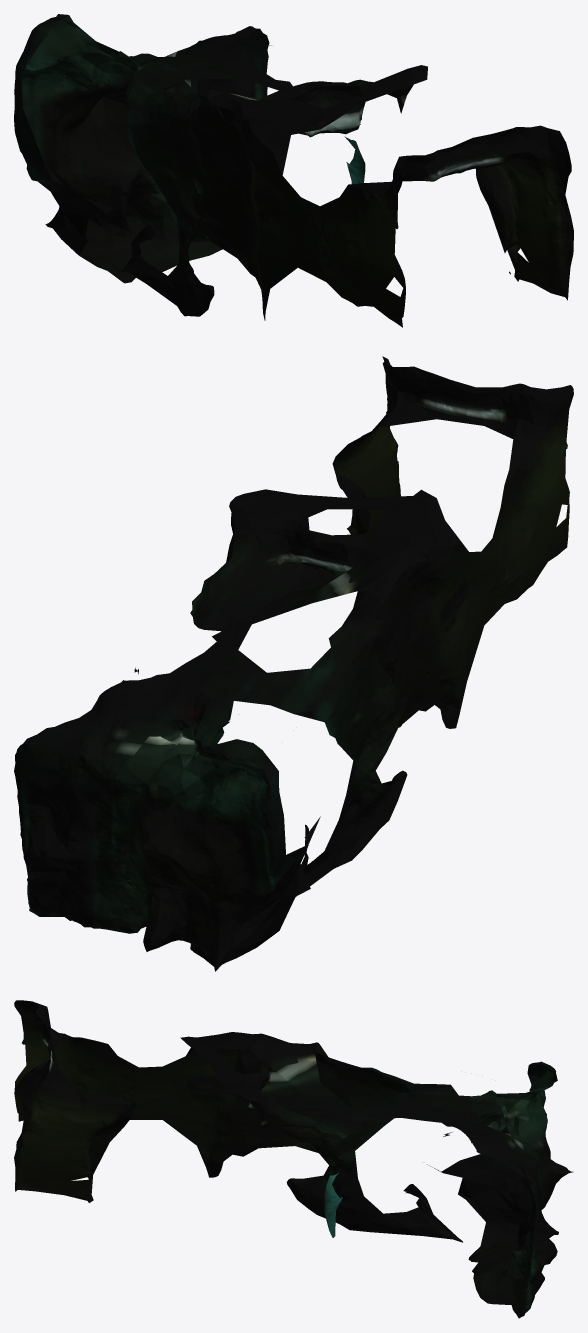
The model's file is texturedMesh.glb.
3 views of the same model, one above another, from view 1: azimuth 30°, elevation 25°; view 2: azimuth 150°, elevation 25°; view 3: azimuth 270°, elevation 25° (orthographic). The views are drawn at different scales.
Visible parts, largest first — view 1: texturedMesh; view 2: texturedMesh; view 3: texturedMesh.
Part boxes in pixels (x1,y1,x2,y2): texturedMesh: (14, 14, 573, 327); texturedMesh: (14, 356, 573, 971); texturedMesh: (14, 1000, 573, 1318).
Size of the model in its own units: 0.8269 by 1.03 by 2.04.
Materials: 1 (1 with a texture image).
